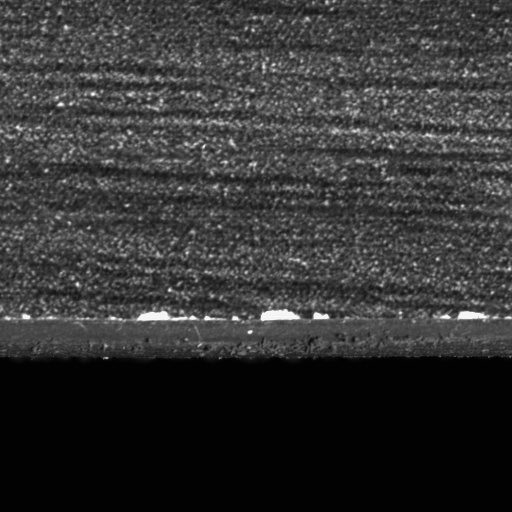huashang: (260, 308, 300, 322), (136, 309, 170, 323), (458, 310, 488, 322)
